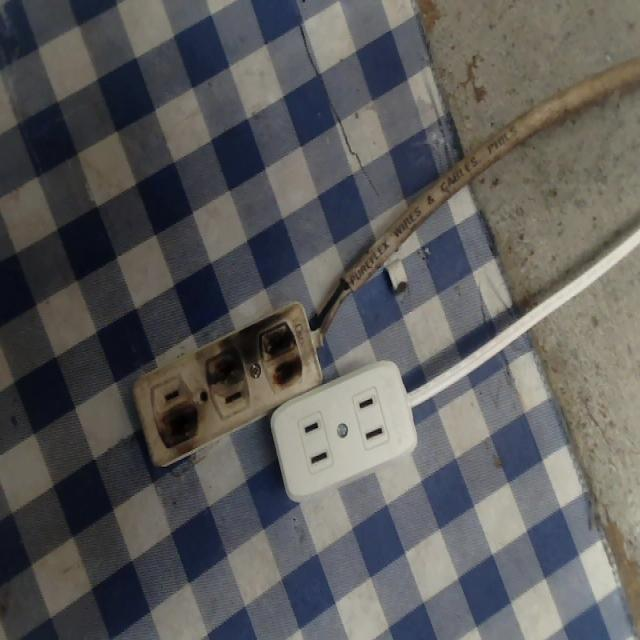-: (261, 308, 317, 399), (137, 404, 209, 461), (199, 335, 253, 393)
